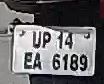1: (55, 30, 65, 51), (60, 52, 69, 73)
4: (64, 30, 77, 50)
6: (51, 52, 62, 72)
8: (68, 53, 80, 72)
9: (79, 54, 88, 75)
A: (32, 53, 44, 72)
E: (22, 49, 32, 71)
P: (41, 29, 51, 50)
U: (32, 28, 42, 50)
